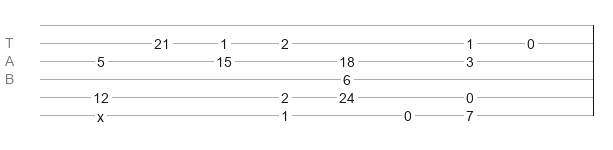0: (404, 108, 412, 118), (466, 90, 474, 100), (527, 36, 535, 46)
1: (220, 36, 228, 46), (281, 108, 289, 118), (466, 36, 474, 46)
12: (93, 90, 109, 100)
15: (216, 54, 232, 64)
18: (339, 54, 355, 64)
2: (281, 90, 289, 100), (281, 36, 289, 46)
21: (154, 36, 170, 46)
24: (339, 90, 355, 100)
3: (466, 54, 474, 64)
5: (97, 54, 105, 64)
6: (343, 72, 351, 82)
7: (466, 108, 474, 118)
x: (97, 109, 104, 117)
